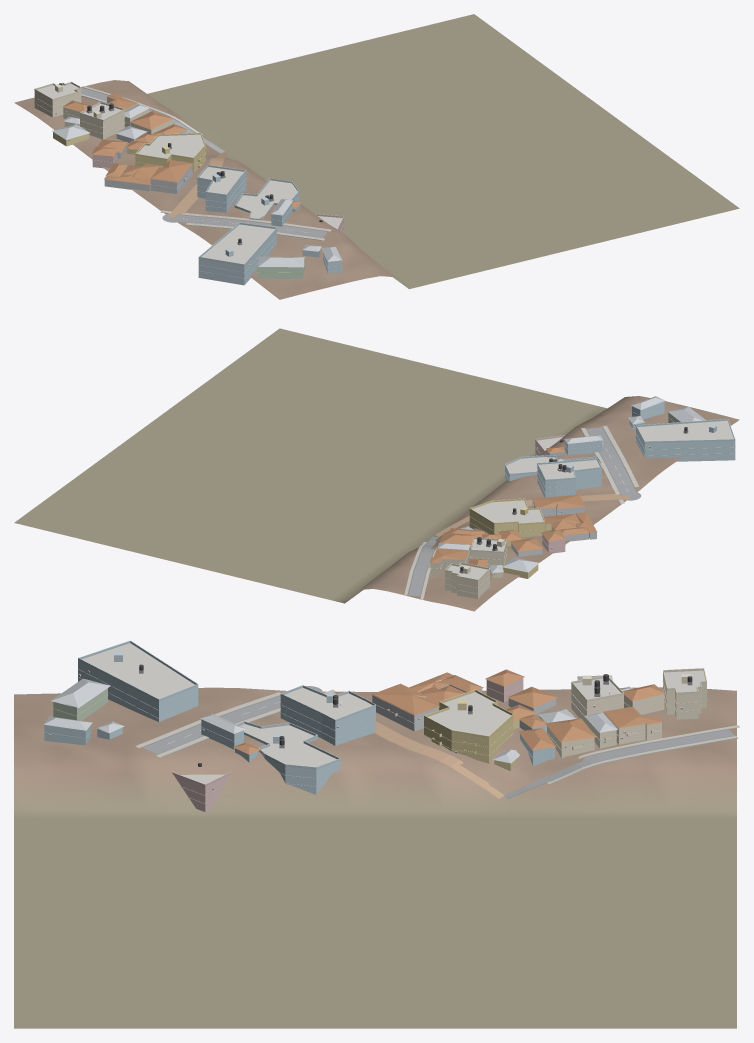
3 views of the same model, one above another, from view 1: azimuth 30°, elevation 25°; view 2: azimuth 150°, elevation 25°; view 3: azimuth 270°, elevation 25° (orthographic). The views are drawn at different scales.
Parts seen in each view (by area): view 1: Terrain-col, Buildings-col, Details, Roads-col, Sidewalks-col; view 2: Terrain-col, Buildings-col, Details, Roads-col, Sidewalks-col; view 3: Terrain-col, Buildings-col, Details, Roads-col, Sidewalks-col.
Part boxes in pixels (x1=…): Terrain-col: x1=14, y1=14, x2=739, y2=299; Buildings-col: x1=34, y1=83, x2=343, y2=285; Details: x1=34, y1=81, x2=344, y2=278; Roads-col: x1=81, y1=87, x2=327, y2=238; Sidewalks-col: x1=81, y1=86, x2=331, y2=240; Terrain-col: x1=14, y1=328, x2=739, y2=611; Buildings-col: x1=430, y1=396, x2=735, y2=598; Details: x1=429, y1=407, x2=735, y2=594; Roads-col: x1=407, y1=427, x2=641, y2=595; Sidewalks-col: x1=404, y1=425, x2=639, y2=599; Terrain-col: x1=14, y1=687, x2=736, y2=1028; Buildings-col: x1=43, y1=643, x2=706, y2=811; Details: x1=44, y1=640, x2=707, y2=804; Roads-col: x1=142, y1=686, x2=735, y2=799; Sidewalks-col: x1=135, y1=689, x2=739, y2=783.
Bounding box in the file's own units: 277 × 26.38 × 257.
